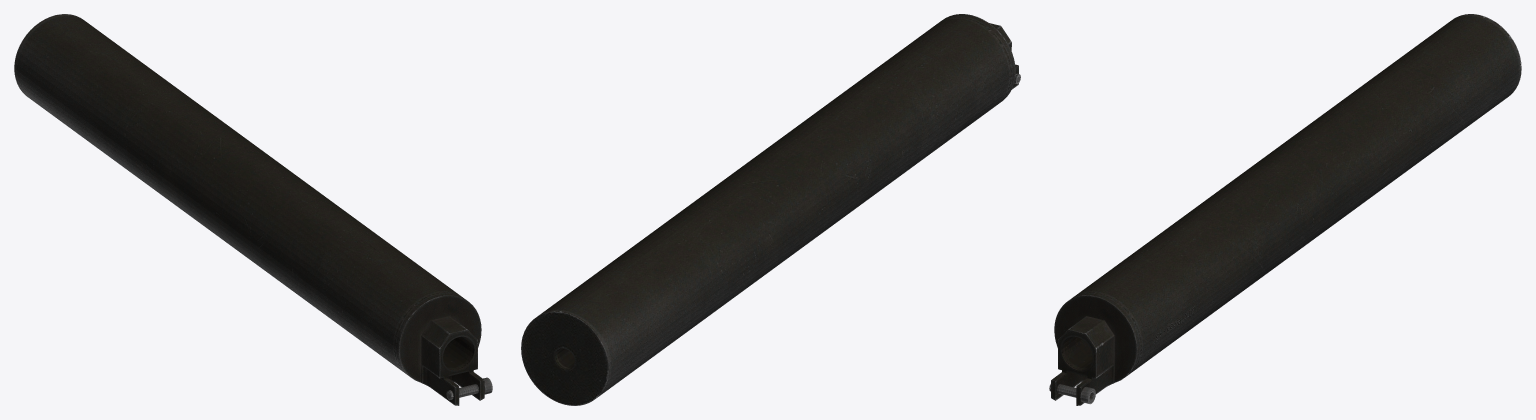
The picture shows the model from 3 angles, left to right: view 1: azimuth 30°, elevation 25°; view 2: azimuth 150°, elevation 25°; view 3: azimuth 330°, elevation 25°; orthographic projection. The views are drawn at different scales.
Parts seen in each view (by area): view 1: TW_5f63407e1b231926f2329f15_PZ_Import; view 2: TW_5f63407e1b231926f2329f15_PZ_Import; view 3: TW_5f63407e1b231926f2329f15_PZ_Import.
Boxes of the visible parts, x1,y1,x2,y2 form: TW_5f63407e1b231926f2329f15_PZ_Import: (14, 14, 492, 405); TW_5f63407e1b231926f2329f15_PZ_Import: (521, 14, 1020, 405); TW_5f63407e1b231926f2329f15_PZ_Import: (1049, 14, 1521, 405).
Bounding box in the file's own units: 0.0292 × 0.2539 × 0.0292.
1 material, 1 textured.
